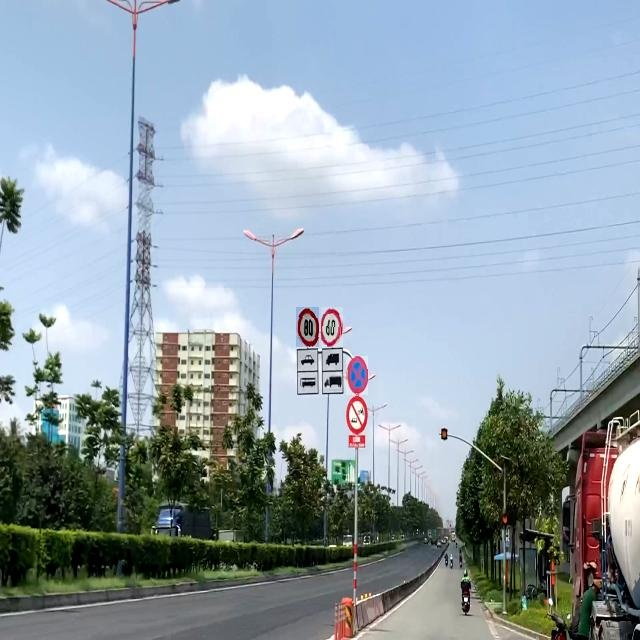bien_cam: (296, 307, 319, 347), (321, 307, 343, 347), (346, 356, 368, 395)
